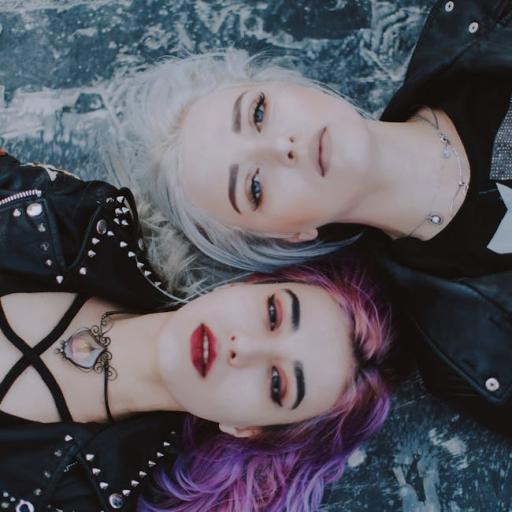lipstick: (191, 324, 216, 377)
